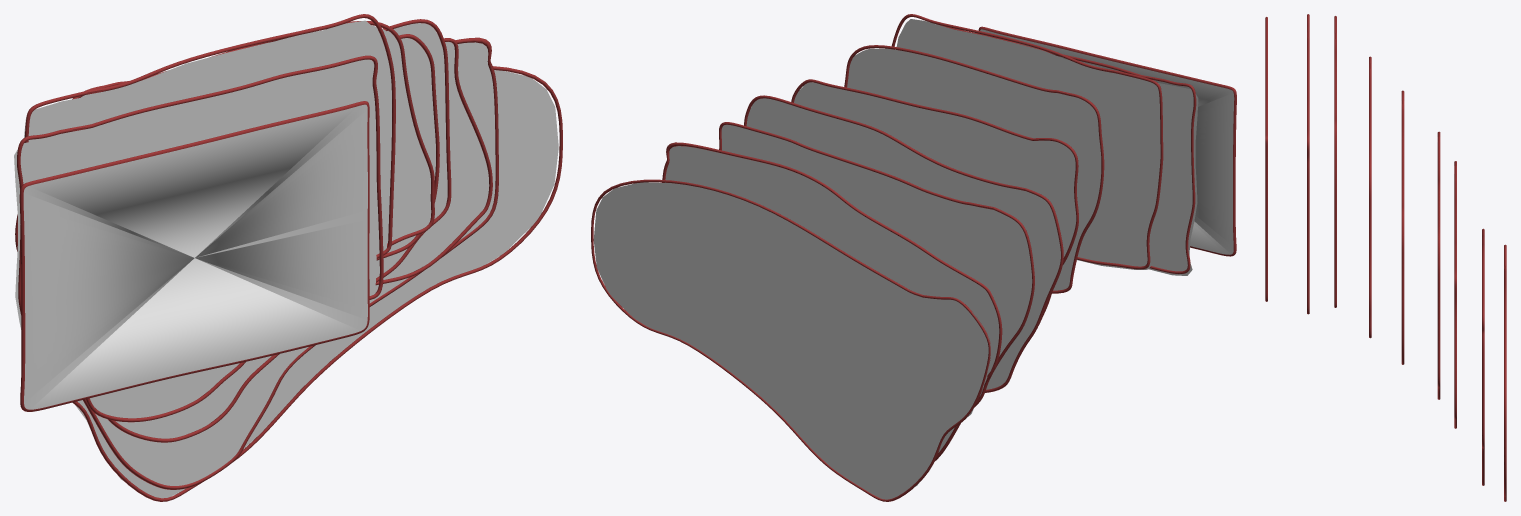
File: Frame2.glb
The picture shows the model from 3 angles, left to right: view 1: azimuth 30°, elevation 25°; view 2: azimuth 150°, elevation 25°; view 3: azimuth 270°, elevation 25°; orthographic projection. The views are drawn at different scales.
Visible parts, largest first — view 1: pasted__pasted__pasted__pasted__pasted__Outline12; view 2: pasted__pasted__pasted__pasted__pasted__Outline12; view 3: pasted__pasted__pasted__pasted__pasted__Outline12.
Part boxes in pixels (x1,y1,x2,y2): pasted__pasted__pasted__pasted__pasted__Outline12: (14,14,562,501); pasted__pasted__pasted__pasted__pasted__Outline12: (591,14,1236,501); pasted__pasted__pasted__pasted__pasted__Outline12: (1265,14,1506,501).
Bounding box in the file's own units: 0.4767 × 0.3567 × 0.1949.
